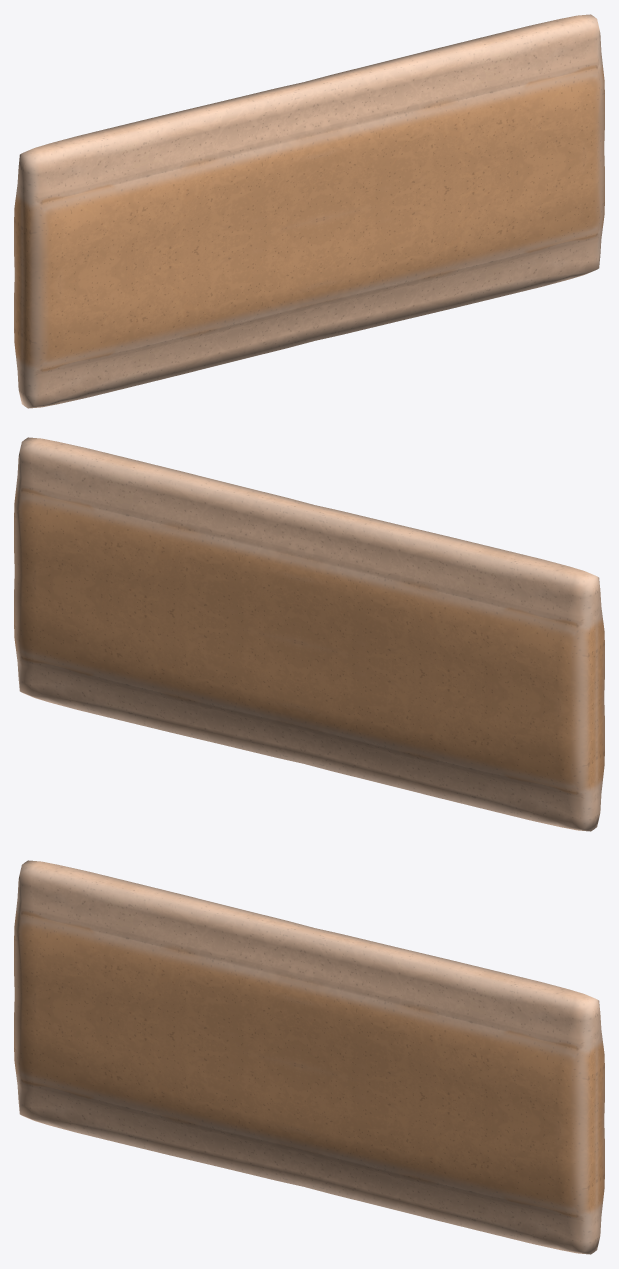
Rendered from wall_2_3.fbx.
3 renders of one model, top to bottom at view 1: azimuth 30°, elevation 25°; view 2: azimuth 150°, elevation 25°; view 3: azimuth 330°, elevation 25°, orthographic.
Parts seen in each view (by area): view 1: Group760; view 2: Group760; view 3: Group760.
Part boxes in pixels (x1,y1,x2,y2): Group760: (14, 14, 604, 408); Group760: (14, 437, 604, 831); Group760: (14, 860, 604, 1254).
Bounding box in the file's own units: 608 × 257 × 47.42.
1 material, 1 textured.
